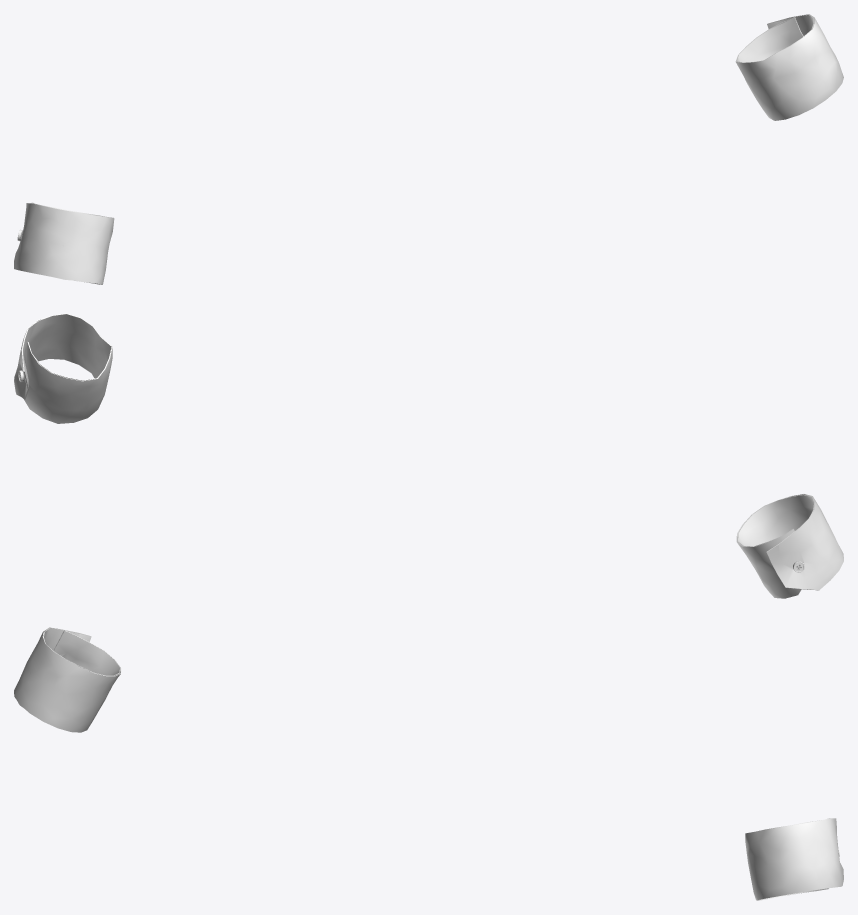
The model's file is one-button-cut-cuff.glb.
The picture shows the model from 3 angles, top to bottom: view 1: azimuth 30°, elevation 25°; view 2: azimuth 150°, elevation 25°; view 3: azimuth 330°, elevation 25°; orthographic projection.
Parts seen in each view (by area): view 1: right_upper, left_upper, left_inner; view 2: right_upper, left_upper, left_inner, right_inner; view 3: left_upper, right_upper, right_inner.
Part boxes in pixels (x1,y1,x2,y2): right_upper: (14, 202, 114, 284); left_upper: (735, 14, 843, 120); left_inner: (736, 14, 814, 120); right_upper: (736, 494, 843, 598); left_upper: (14, 313, 112, 423); left_inner: (22, 313, 111, 399); right_inner: (737, 494, 816, 590); left_upper: (745, 818, 843, 900); right_upper: (14, 627, 121, 732); right_inner: (18, 628, 120, 707).
Size of the model in its own units: 0.8311 by 0.0878 by 0.1018.
Materials: 3 (3 with a texture image).
